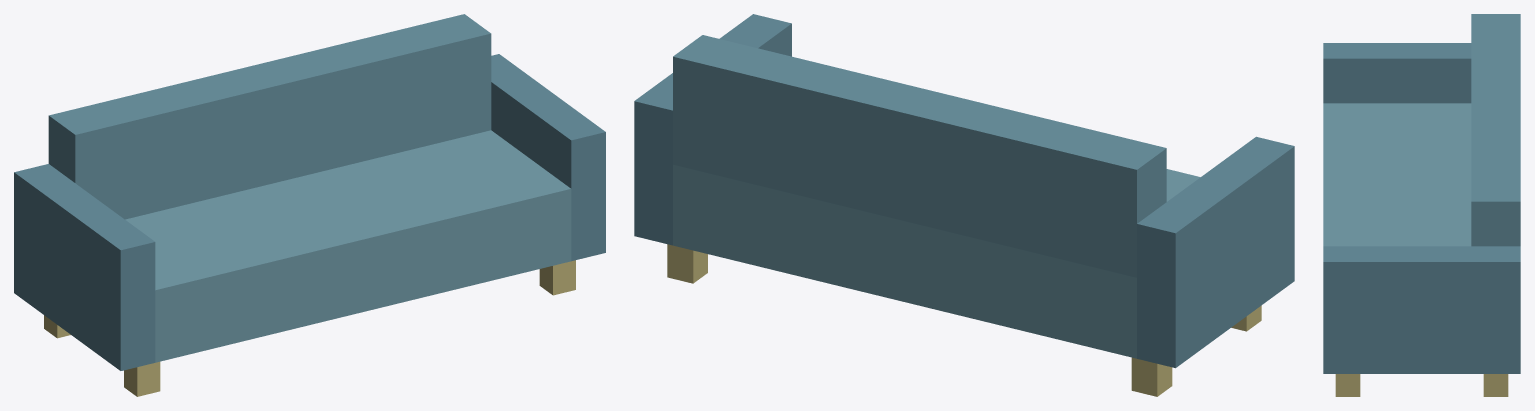
Rendered from sofa_modern.glb.
3 renders of one model, left to right at view 1: azimuth 30°, elevation 25°; view 2: azimuth 150°, elevation 25°; view 3: azimuth 270°, elevation 25°, orthographic. The views are drawn at different scales.
Size of the model in its own units: 2.1 by 0.85 by 0.8.
